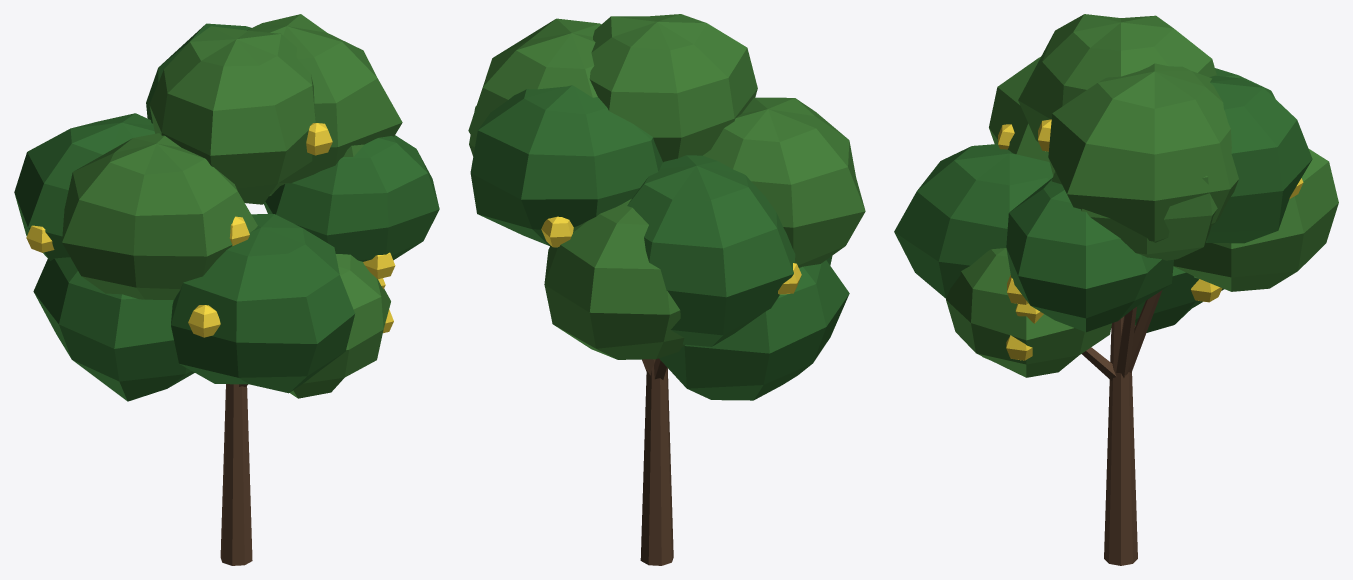
The model's file is tree_lemon_small.glb.
The picture shows the model from 3 angles, left to right: view 1: azimuth 30°, elevation 25°; view 2: azimuth 150°, elevation 25°; view 3: azimuth 270°, elevation 25°; orthographic projection. The views are drawn at different scales.
Parts seen in each view (by area): view 1: tree_lemon_small; view 2: tree_lemon_small; view 3: tree_lemon_small.
Boxes of the visible parts, x1,y1,x2,y2 form: tree_lemon_small: (14,14,439,565); tree_lemon_small: (468,14,865,565); tree_lemon_small: (894,14,1338,565).
Bounding box in the file's own units: 3.23 × 4.37 × 3.29.
